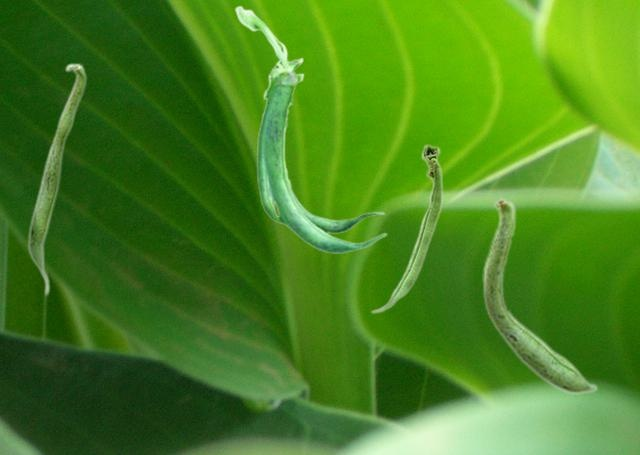french_bean: (234, 5, 386, 253), (482, 196, 597, 394), (27, 62, 86, 296), (370, 143, 442, 313)
